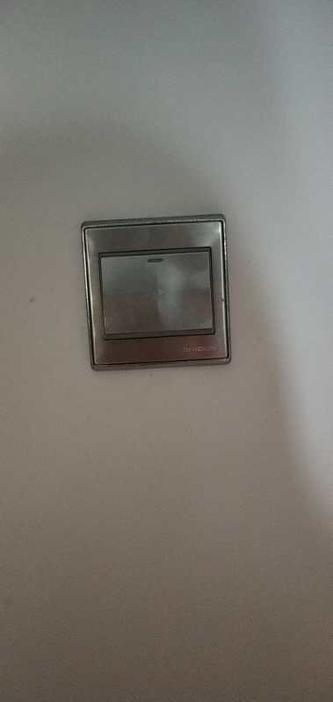switch: (91, 239, 223, 348)
